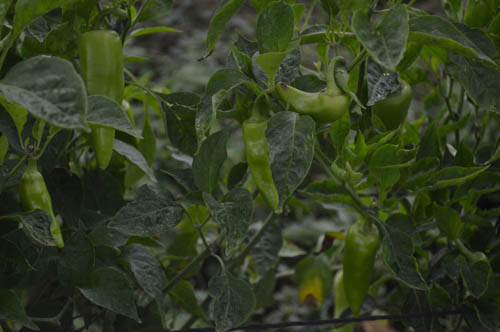ChiliPepper: (82, 32, 124, 171), (338, 229, 378, 317), (243, 121, 281, 209), (22, 174, 64, 247), (275, 80, 344, 120), (375, 79, 410, 131)
